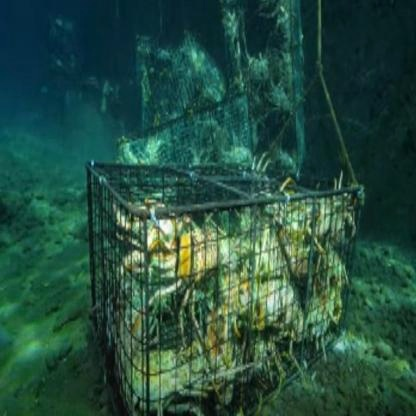metal: (95, 159, 341, 384)
net: (136, 31, 327, 175)
